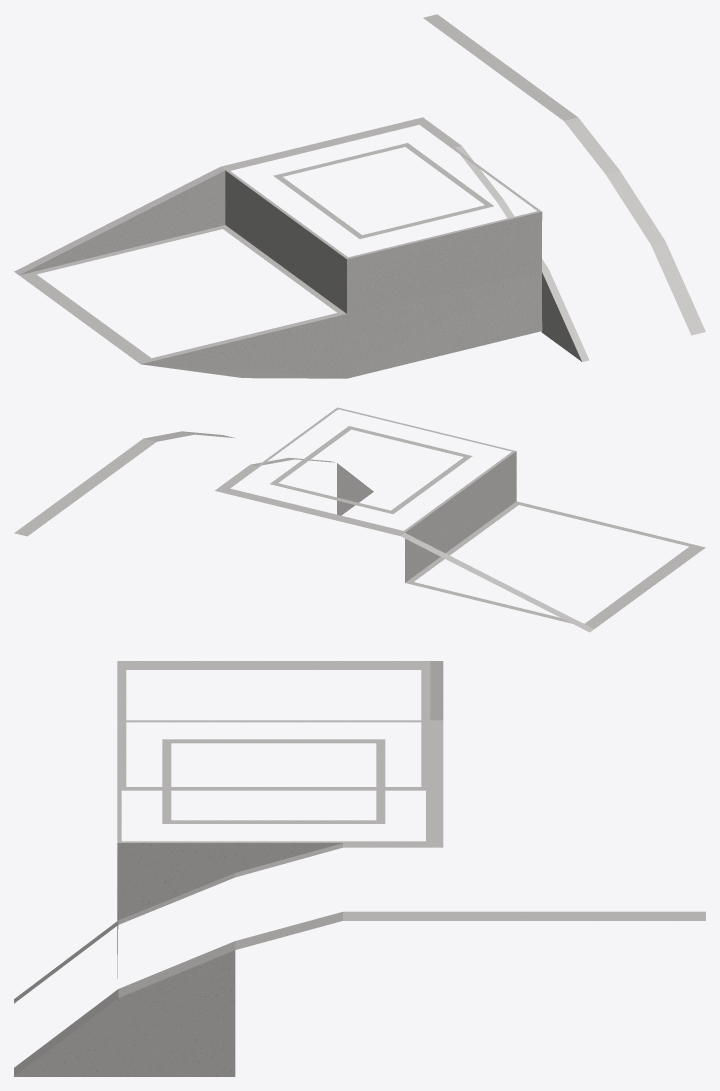
Rendered from kd_stage_136599_19_37.glb.
3 views of the same model, one above another, from view 1: azimuth 30°, elevation 25°; view 2: azimuth 150°, elevation 25°; view 3: azimuth 270°, elevation 25° (orthographic). The views are drawn at different scales.
Visible parts, largest first — view 1: kd_stage_136599_19_37; view 2: kd_stage_136599_19_37; view 3: kd_stage_136599_19_37.
Part boxes in pixels (<box>): kd_stage_136599_19_37: <box>14,14,705,378</box>; kd_stage_136599_19_37: <box>14,407,705,632</box>; kd_stage_136599_19_37: <box>14,661,705,1076</box>.
Size of the model in its own units: 18.39 by 4.05 by 16.28.
Materials: 1 (1 with a texture image).
